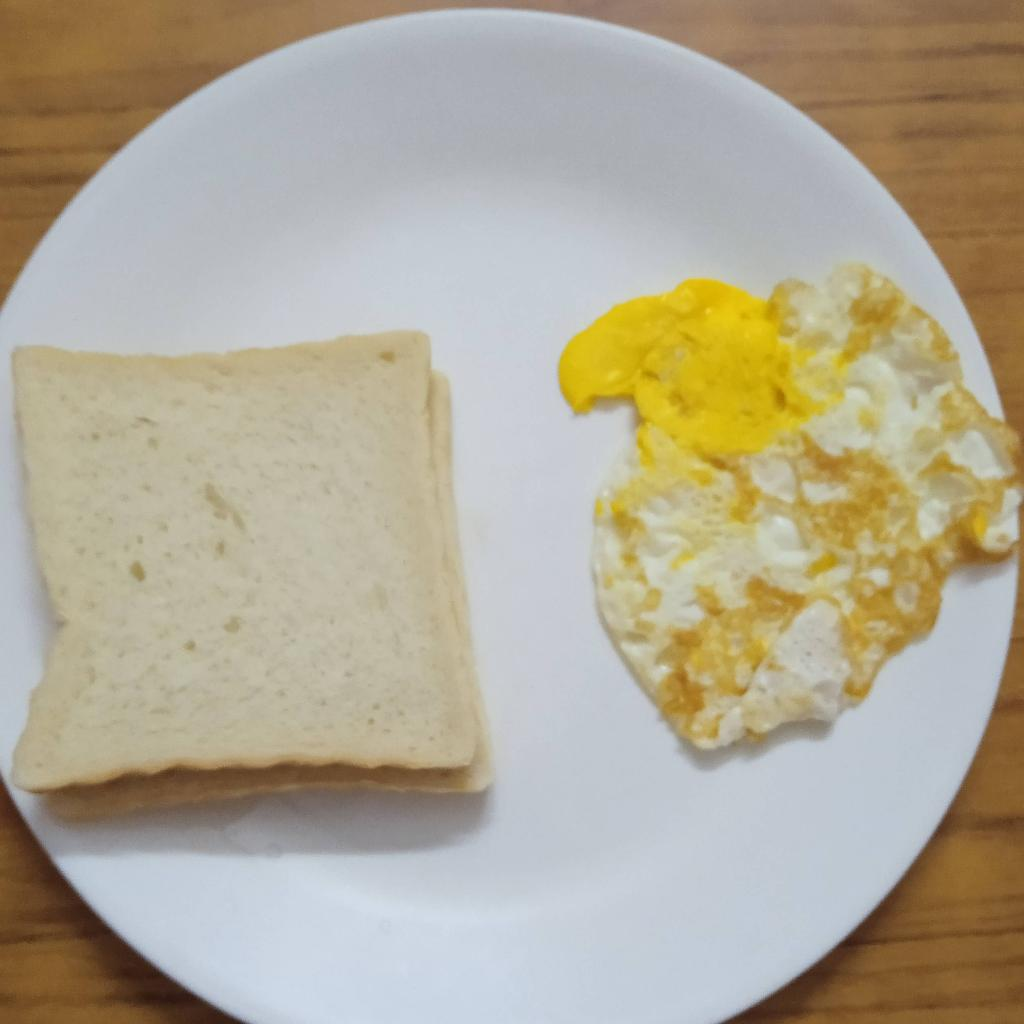bread: (11, 328, 492, 821)
egg-poached: (559, 266, 1024, 761)
